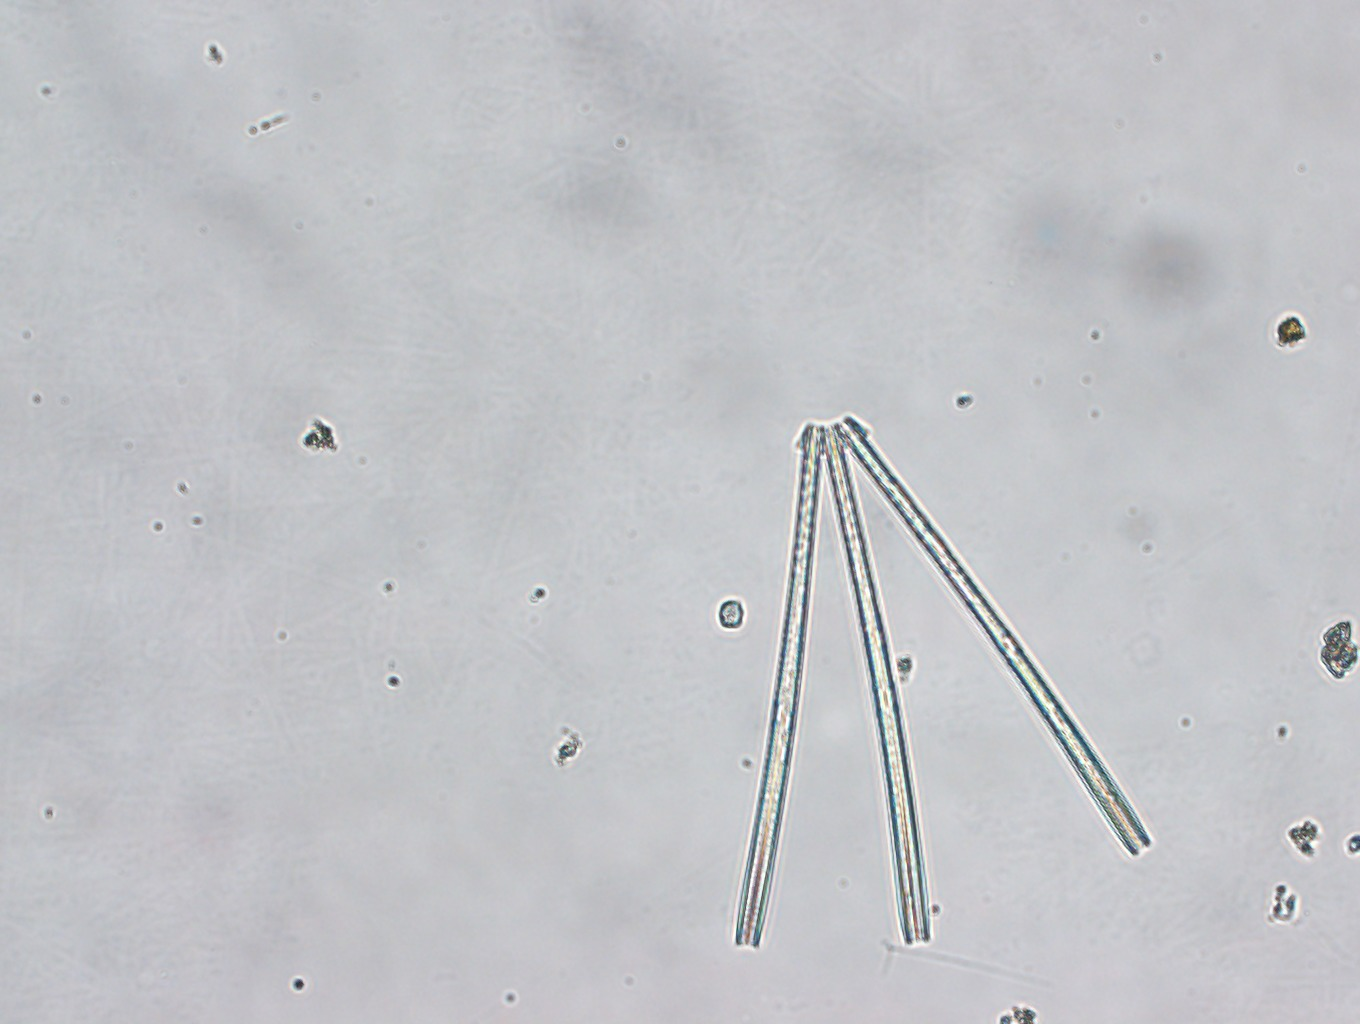thalassionema frauenfeldii: (734, 415, 1155, 950)
